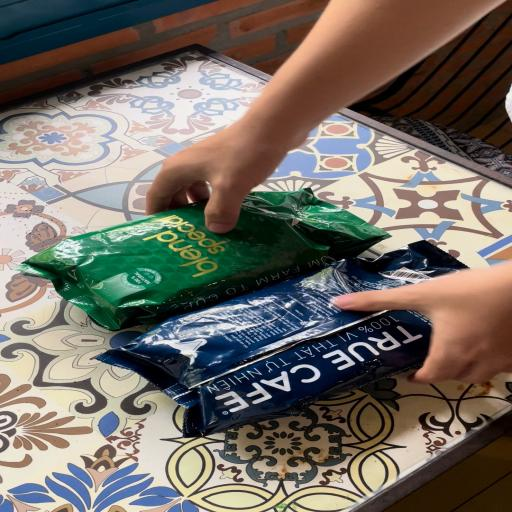cafe_hat: (100, 242, 463, 437)
cafe_xay: (18, 188, 388, 330)
